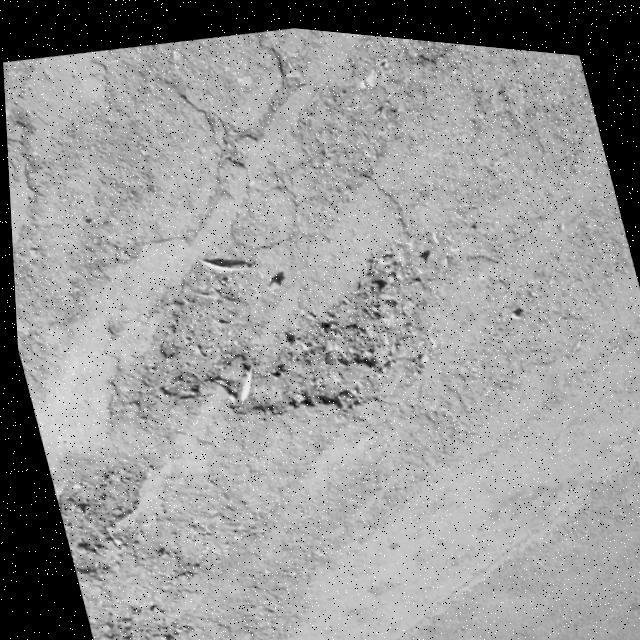pothole: (123, 214, 456, 456), (42, 446, 164, 586), (77, 586, 198, 640)
